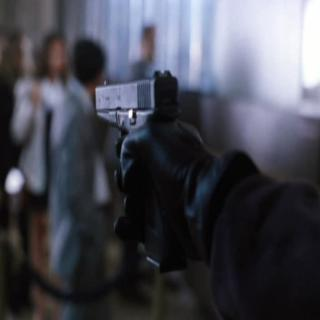gun: (89, 62, 192, 277)
